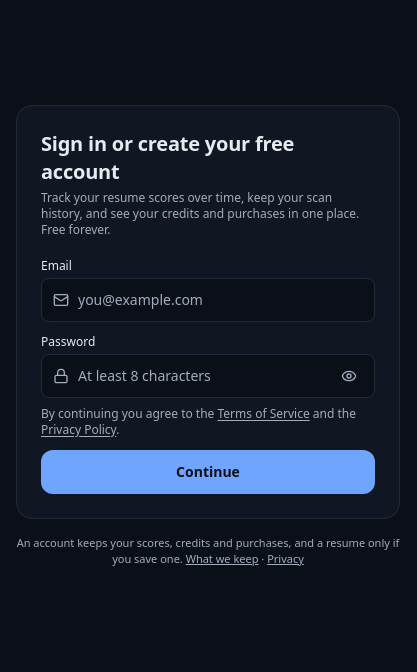
Test: the password path: sign in first, a new account only when asked › a new account refused for an address that has one says neither 'exists' nor 'on its way'
Type "member@example.com" into the field labelled "Email". click: (208, 300)
box: [41, 278, 375, 322]
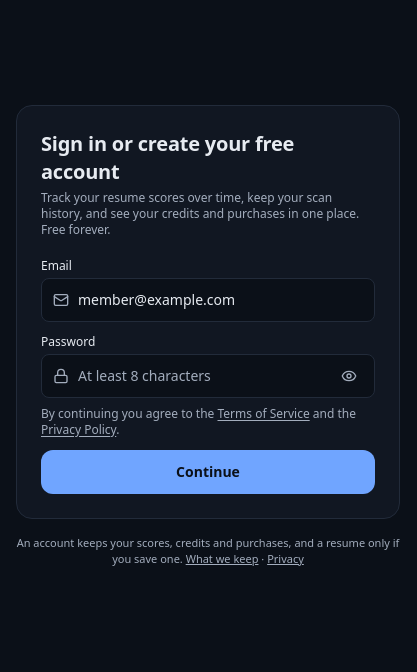
Type "wrongpassword" into the password field labelled "Password". click: (208, 376)
box: [41, 354, 375, 398]
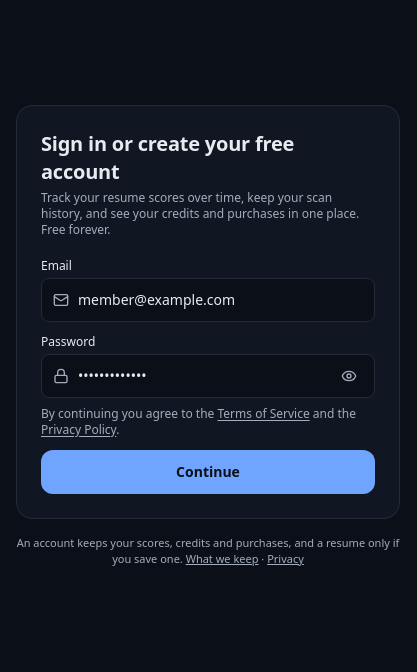
Click the button "Continue". click: (208, 472)
box: [41, 450, 375, 494]
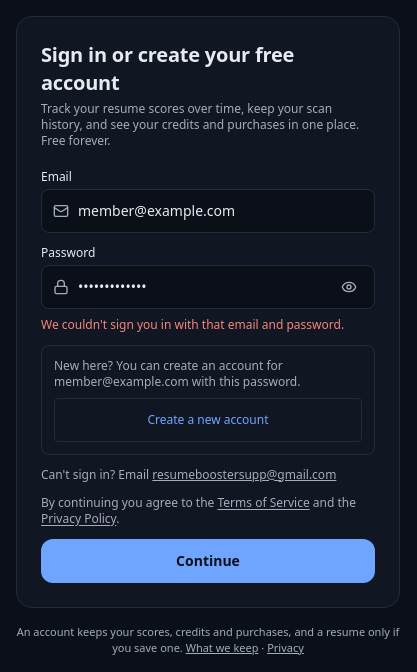
Click the button "Create a new account". click: (208, 420)
box: [54, 398, 362, 442]
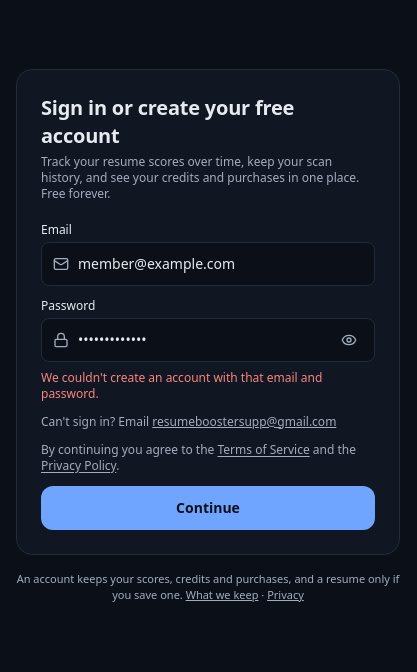
Result: the message reads "We couldn't create an account with that email and password." at [41, 368, 322, 402]
